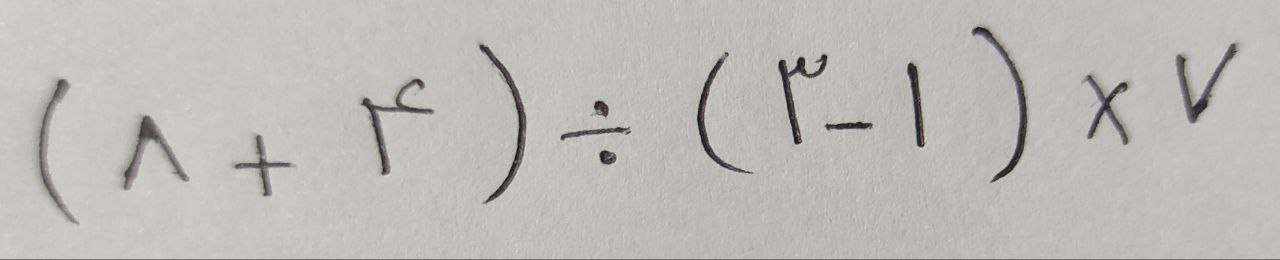character: (971, 27, 1028, 184), (478, 44, 527, 206), (694, 50, 755, 177), (362, 78, 436, 176), (37, 79, 81, 226), (123, 114, 192, 193), (1174, 42, 1239, 125), (562, 99, 633, 166), (778, 54, 828, 146), (234, 132, 297, 198), (1082, 74, 1132, 147), (905, 60, 927, 147), (822, 120, 876, 132)
